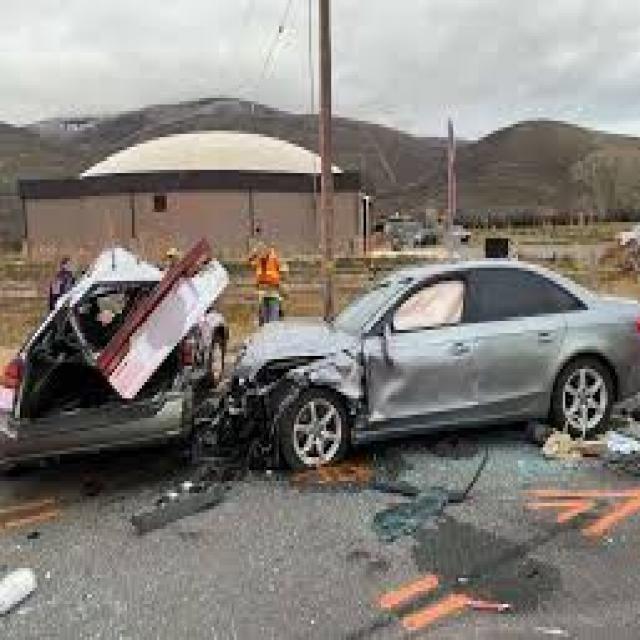accident: (8, 239, 638, 487)
